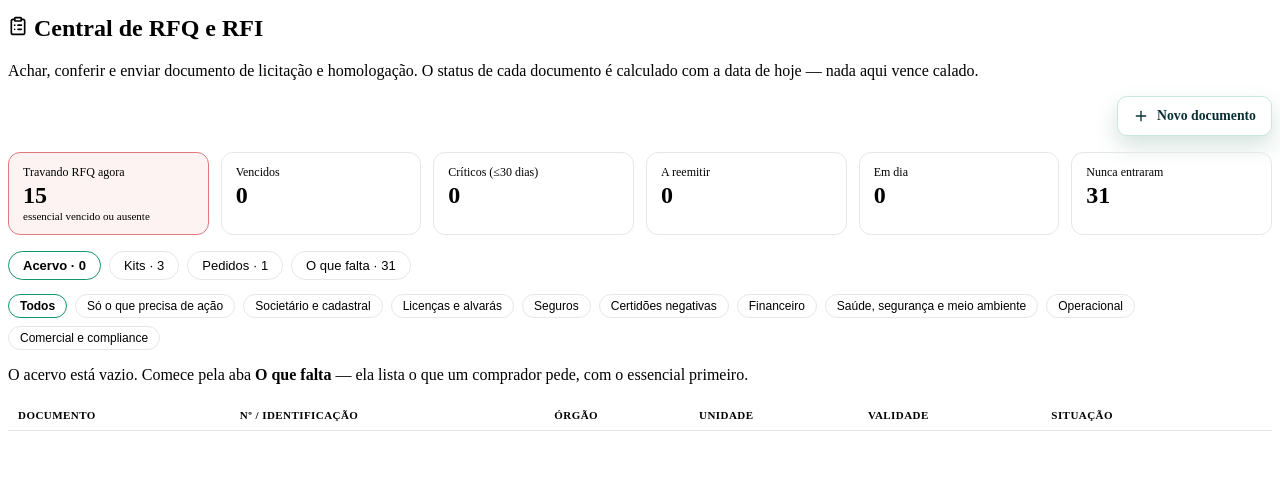
Test case: Central de RFQ › pedido fechado sem motivo é apontado na tela
Step 1. Click the button "Pedidos · 1" → (235, 266), box [187,251,283,280]
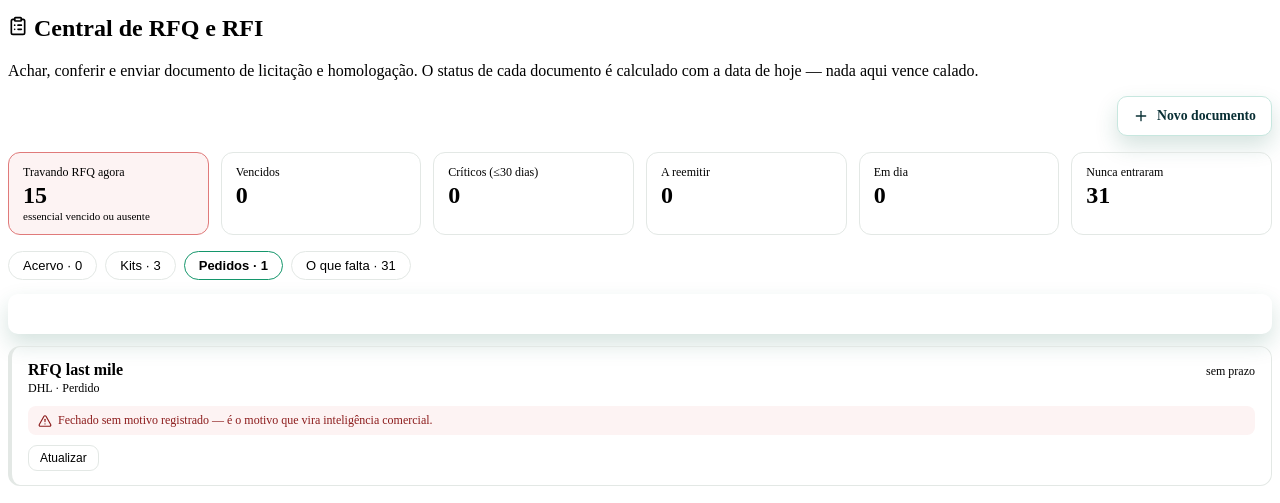
Expected: the text "Fechado sem motivo registrado" is shown, [58,413,433,427]
